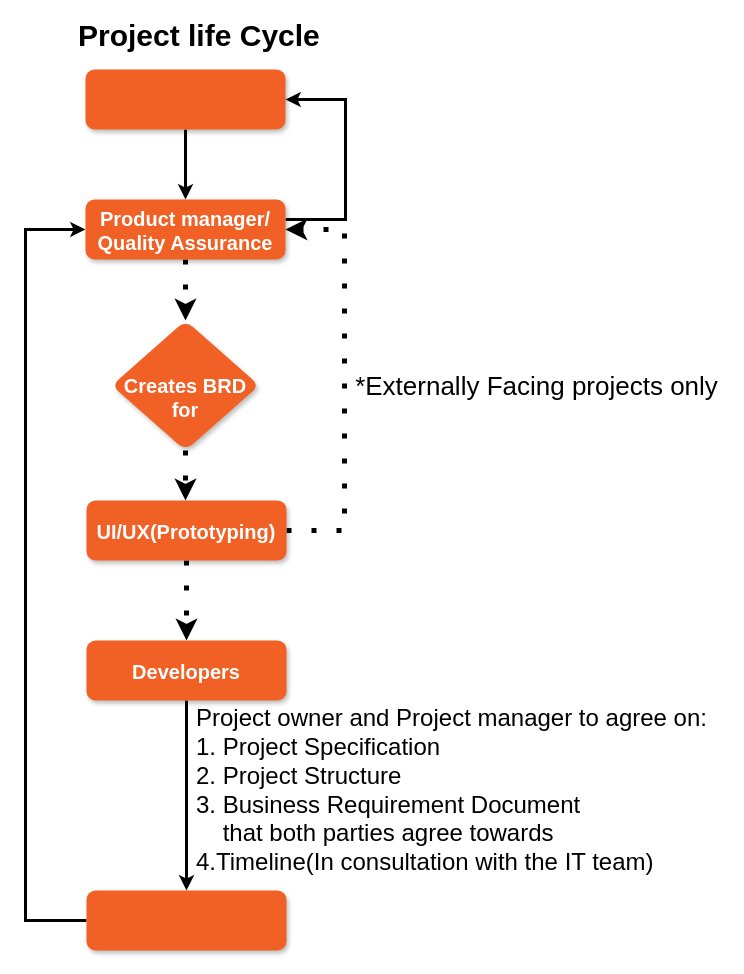
The diagram is 744 pixels wide and 974 high, and some of its shapes have lost their labels. The shapes that lost their labels are listed below. From the top down, each one's centre as x and y in pixels, then its label:
[186,100]: Project Owner
[187,921]: Testing/UAT
